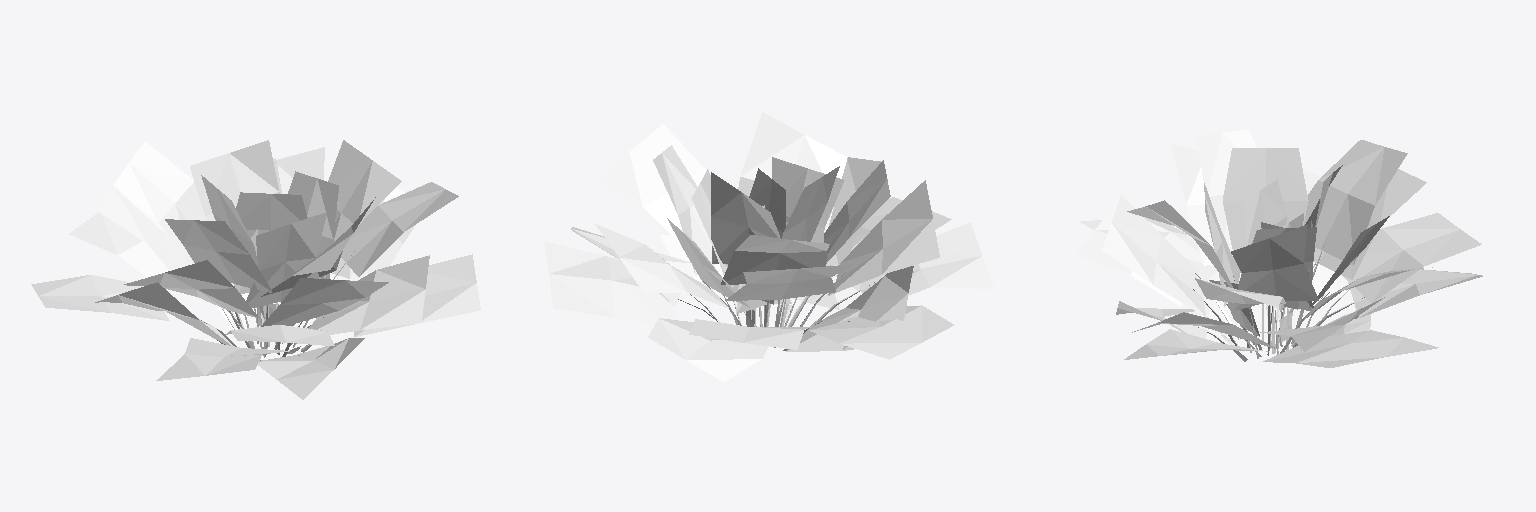
The model's file is Lacy_Tree_Philodendron_Model_0.obj.
3 renders of one model, left to right at view 1: azimuth 30°, elevation 25°; view 2: azimuth 150°, elevation 25°; view 3: azimuth 270°, elevation 25°, orthographic.
Parts seen in each view (by area): view 1: Foliage; view 2: Foliage; view 3: Foliage.
Part boxes in pixels (left/top/right/bottom): Foliage: left=31, top=140, right=480, bottom=399; Foliage: left=544, top=112, right=994, bottom=381; Foliage: left=1076, top=129, right=1482, bottom=367.
Size of the model in its own units: 2.27 by 1 by 2.02.